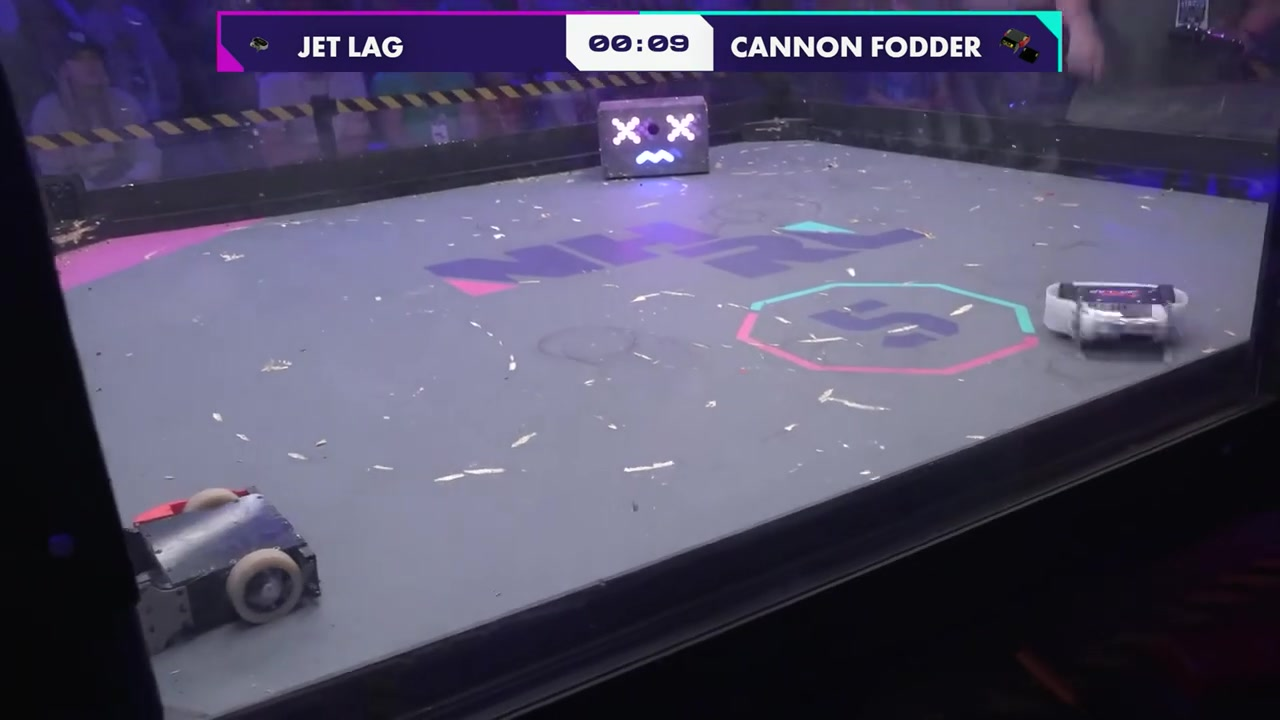combatbot: (127, 486, 321, 653), (1041, 279, 1190, 354)
housebot: (597, 97, 713, 185)
